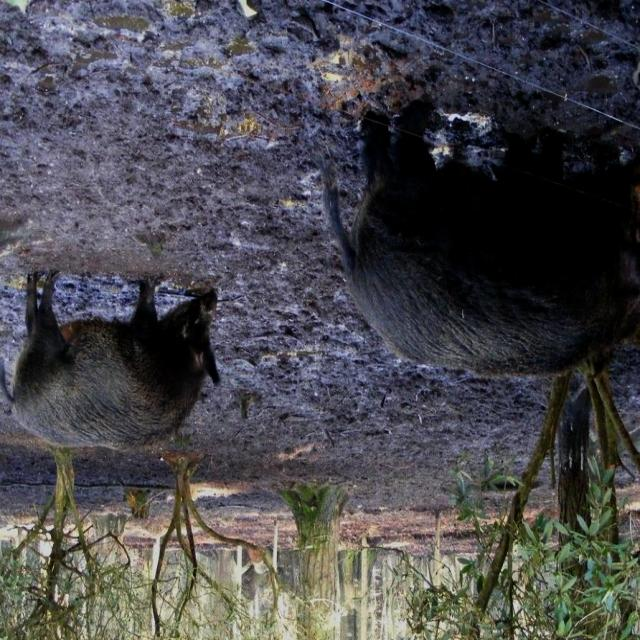pig: (324, 103, 640, 376), (0, 273, 220, 450)
